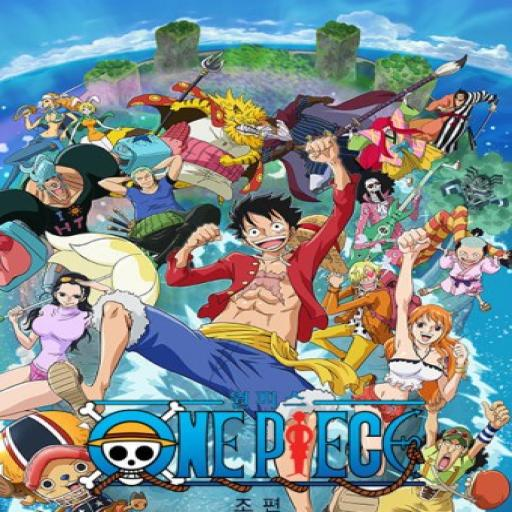Luffy: (158, 138, 370, 404)
Nami: (369, 212, 461, 402)
NicoRobin: (42, 272, 104, 312)
Usopp: (424, 404, 510, 474)
Zoro: (100, 160, 180, 208)
